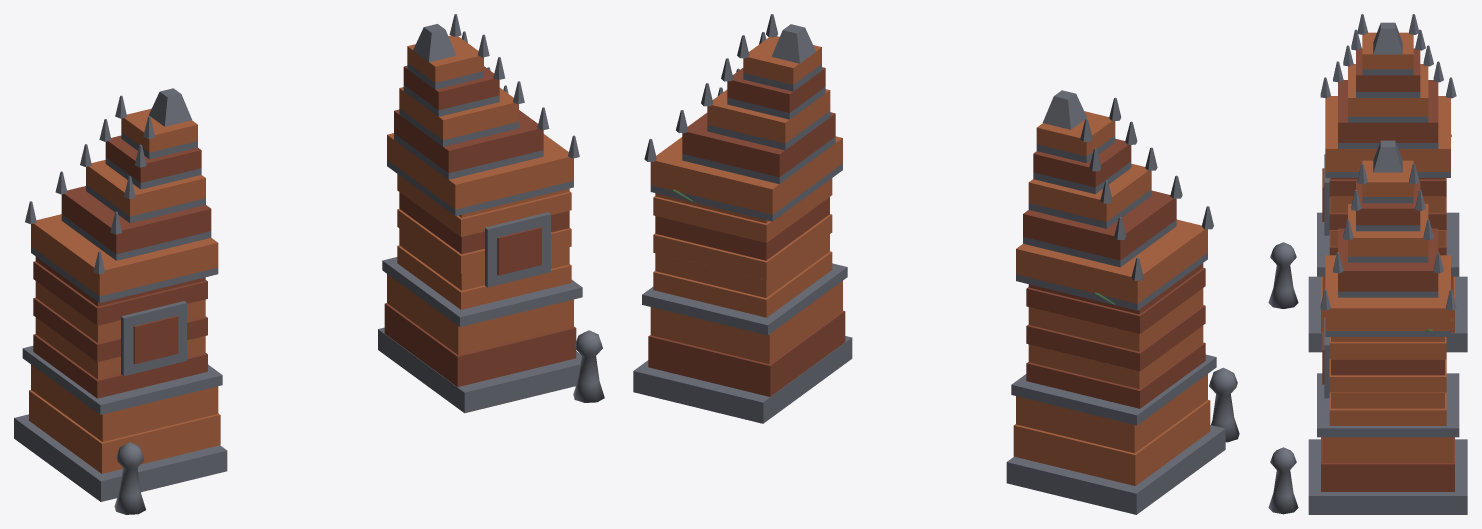
The model's file is gapura.glb.
3 views of the same model, side by side, from view 1: azimuth 30°, elevation 25°; view 2: azimuth 150°, elevation 25°; view 3: azimuth 270°, elevation 25° (orthographic). The views are drawn at different scales.
Visible parts, largest first — view 1: gapura_mesh; view 2: gapura_mesh; view 3: gapura_mesh.
Part boxes in pixels (x1,y1,x2,y2): gapura_mesh: (14,14,604,514); gapura_mesh: (633,14,1239,514); gapura_mesh: (1268,14,1467,514).
Size of the model in its own units: 6.2 by 4.23 by 2.38.
